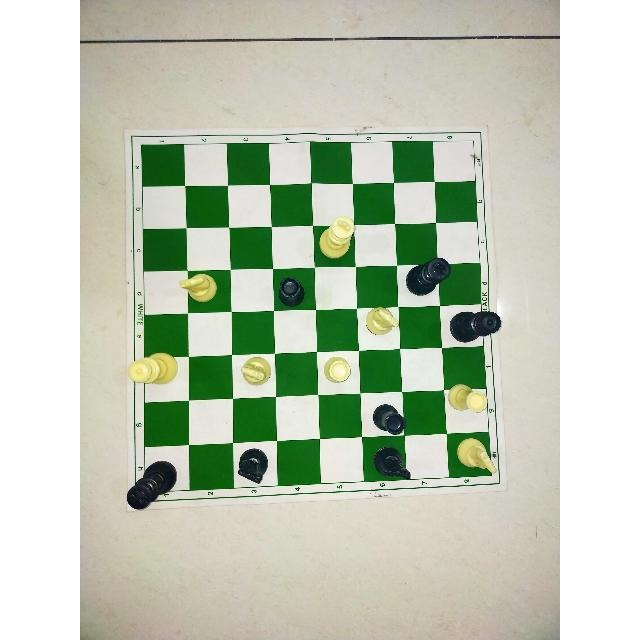black-king: (124, 454, 179, 516), (126, 453, 178, 514), (399, 252, 453, 306), (400, 251, 451, 305)
black-knight: (371, 437, 415, 488), (370, 442, 414, 486), (233, 440, 273, 488), (234, 443, 269, 488)
black-queen: (446, 301, 506, 348), (447, 304, 505, 348)
black-rook: (369, 397, 412, 439), (268, 275, 311, 317), (368, 401, 408, 439), (271, 273, 307, 310)
white-king: (315, 211, 360, 263), (318, 212, 358, 264)
white-knight: (452, 432, 502, 481), (453, 434, 500, 482), (359, 298, 407, 341), (171, 268, 223, 307), (172, 270, 222, 307), (360, 300, 405, 341), (236, 355, 280, 395), (236, 354, 276, 394)
white-queen: (127, 344, 184, 393), (126, 347, 183, 395)
white-rook: (441, 376, 495, 420), (442, 379, 492, 421), (315, 350, 358, 390), (317, 351, 354, 390)
